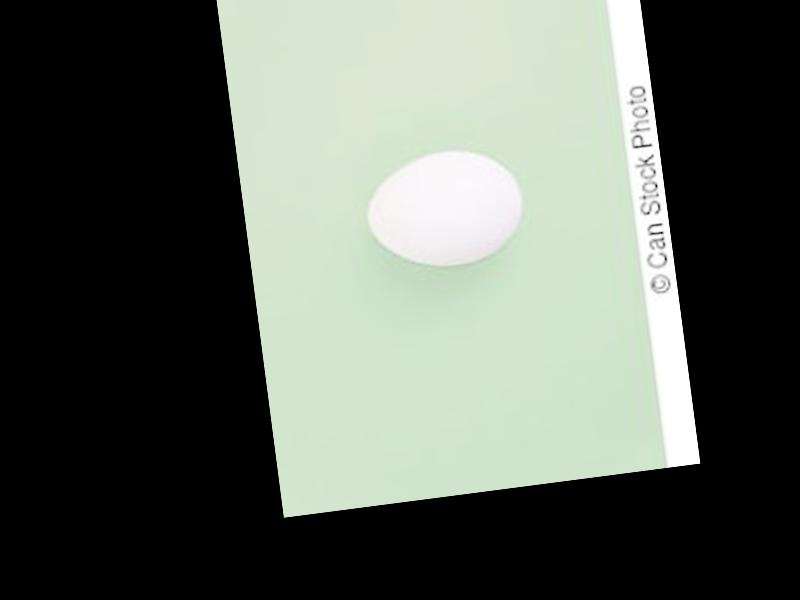Eggs: (361, 144, 527, 274)
